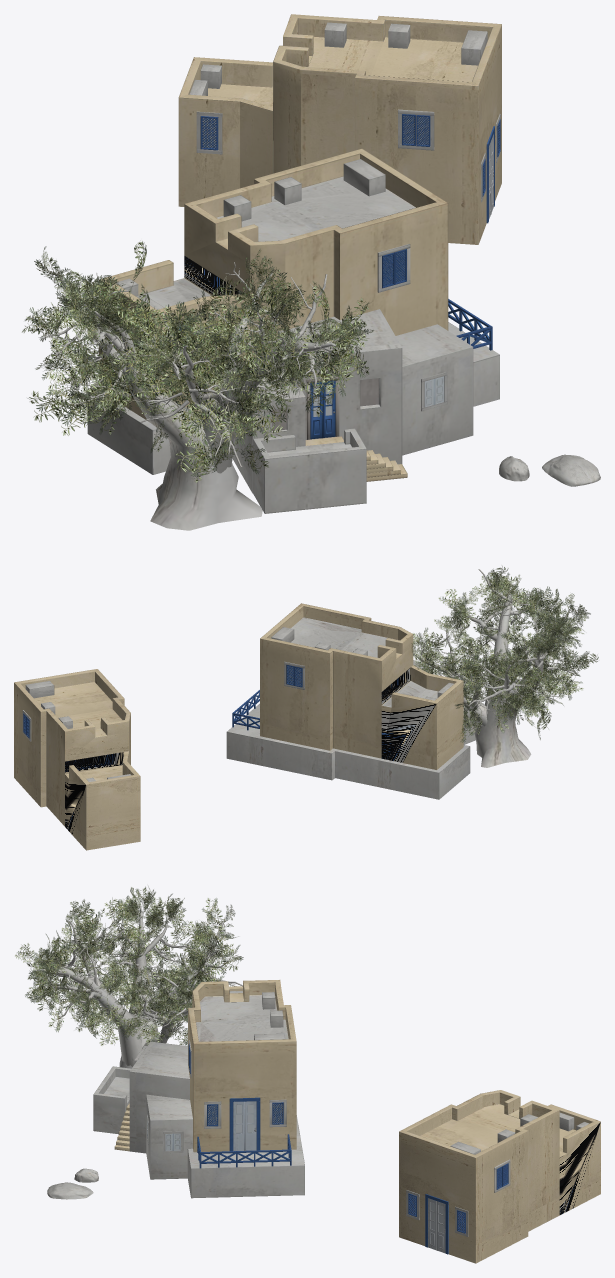
The model's file is website-scene.glb.
3 views of the same model, one above another, from view 1: azimuth 30°, elevation 25°; view 2: azimuth 150°, elevation 25°; view 3: azimuth 270°, elevation 25° (orthographic). The views are drawn at different scales.
Parts seen in each view (by area): view 1: Model_6, Object_2, Scene1 Model, Object_4, Cube_1_2.001, Cube.001, Cube_2.001, Base.001, Object_3, Cube_2_2.001, Roof.001, Roof (+9 smaller); view 2: Scene1 Model, Model_6, Object_2, Base.001, Object_4, Object_3, Roof, Fence.001, Roof.001, Window_2_2.001; view 3: Model_6, Object_2, Scene1 Model, Object_4, Base.001, Cube_1_2.001, Cube_2.001, Object_3, Cube.001, Door_2.001, Door, Fence.001 (+3 smaller).
Part boxes in pixels (left/top/right/bottom): Model_6: left=178, top=14, right=501, bottom=244; Object_2: left=22, top=241, right=373, bottom=482; Scene1 Model: left=99, top=148, right=448, bottom=421; Object_4: left=52, top=272, right=354, bottom=530; Cube_1_2.001: left=278, top=309, right=402, bottom=464; Cube.001: left=253, top=428, right=366, bottom=513; Cube_2.001: left=395, top=324, right=473, bottom=455; Base.001: left=87, top=322, right=499, bottom=474; Object_3: left=42, top=262, right=336, bottom=467; Cube_2_2.001: left=232, top=361, right=305, bottom=493; Roof.001: left=116, top=159, right=385, bottom=309; Roof: left=189, top=22, right=487, bottom=95; Scene1 Model: left=260, top=603, right=463, bottom=769; Model_6: left=14, top=669, right=140, bottom=850; Object_2: left=411, top=566, right=598, bottom=742; Base.001: left=226, top=703, right=470, bottom=799; Object_4: left=413, top=587, right=570, bottom=767; Object_3: left=418, top=569, right=579, bottom=717; Roof: left=25, top=681, right=130, bottom=781; Fence.001: left=232, top=690, right=259, bottom=730; Roof.001: left=271, top=627, right=453, bottom=700; Window_2_2.001: left=284, top=661, right=304, bottom=689; Model_6: left=399, top=1090, right=600, bottom=1263; Object_2: left=15, top=886, right=243, bottom=1045; Scene1 Model: left=188, top=980, right=296, bottom=1152; Object_4: left=37, top=904, right=229, bottom=1068; Base.001: left=187, top=1115, right=304, bottom=1198; Cube_1_2.001: left=129, top=1041, right=189, bottom=1153; Cube_2.001: left=146, top=1094, right=192, bottom=1179; Object_3: left=34, top=926, right=242, bottom=1038; Cube.001: left=93, top=1066, right=130, bottom=1133; Door_2.001: left=229, top=1097, right=260, bottom=1151; Door: left=425, top=1194, right=448, bottom=1254; Fence.001: left=197, top=1134, right=291, bottom=1168.
Bounding box in the file's own units: 52.3 × 18.77 × 56.85.
5 materials, 5 textured.
